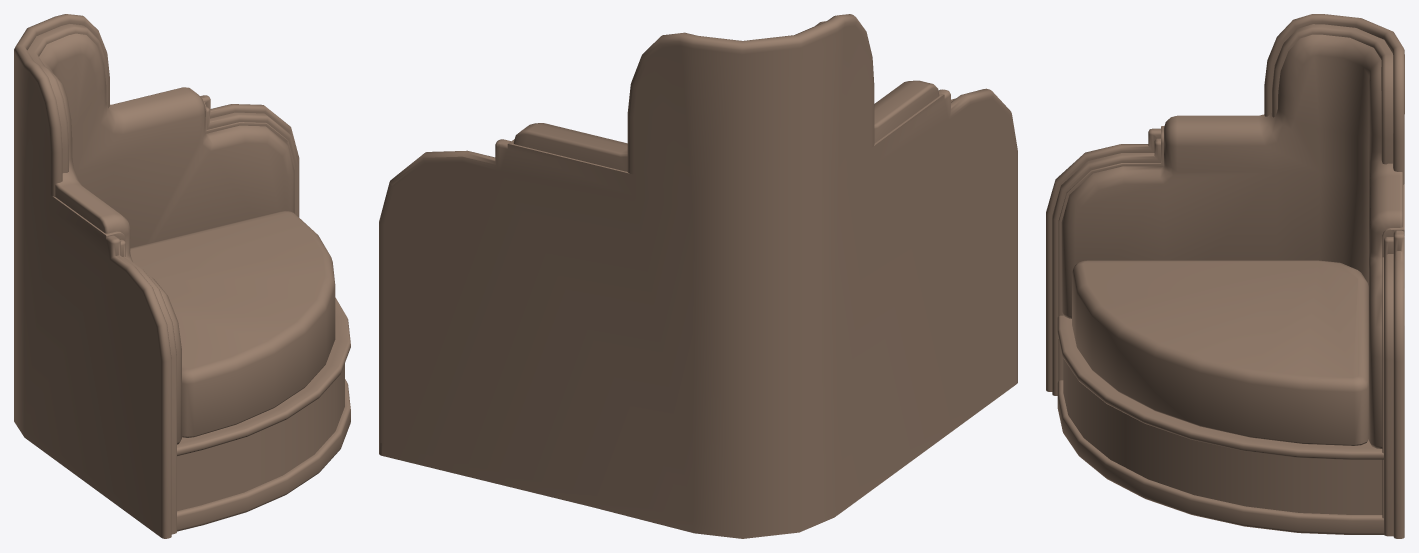
The model's file is SM_Sofa_Corner.fbx.
The picture shows the model from 3 angles, left to right: view 1: azimuth 30°, elevation 25°; view 2: azimuth 150°, elevation 25°; view 3: azimuth 270°, elevation 25°; orthographic projection. The views are drawn at different scales.
Visible parts, largest first — view 1: SM_Sofa_Corner; view 2: SM_Sofa_Corner; view 3: SM_Sofa_Corner.
Part boxes in pixels (x1,y1,x2,y2): SM_Sofa_Corner: (14,14,350,538); SM_Sofa_Corner: (379,14,1017,538); SM_Sofa_Corner: (1046,14,1404,538).
Bounding box in the file's own units: 75.85 × 88 × 75.85.
